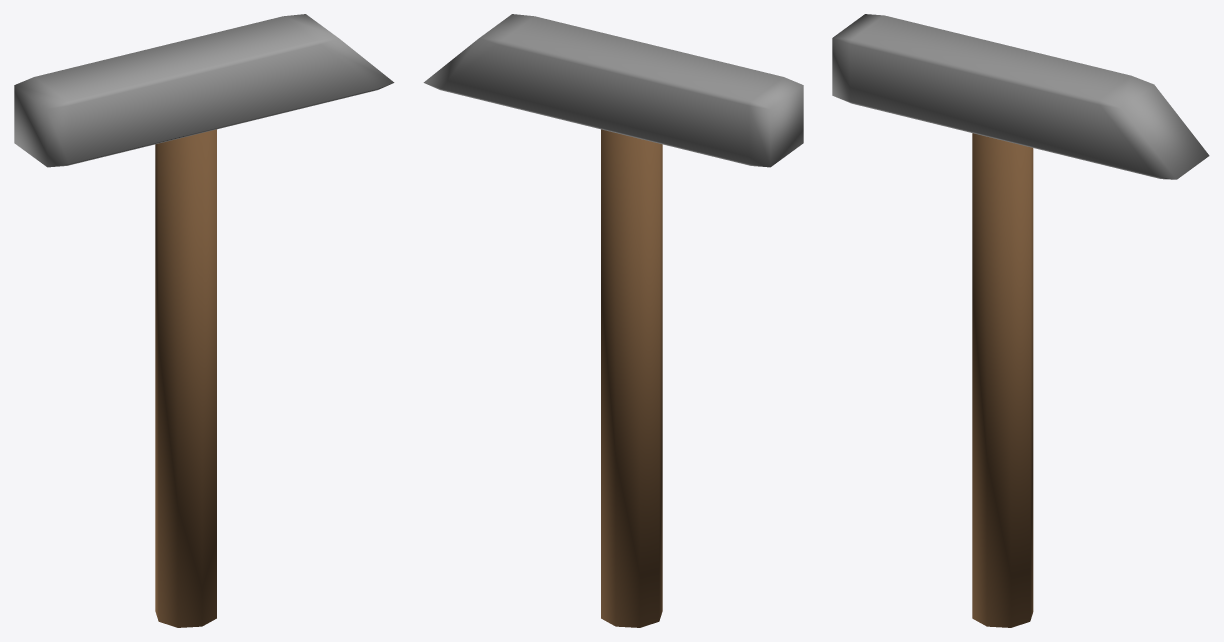
The model's file is Hoe.glb.
3 renders of one model, left to right at view 1: azimuth 30°, elevation 25°; view 2: azimuth 150°, elevation 25°; view 3: azimuth 330°, elevation 25°, orthographic.
Parts seen in each view (by area): view 1: hoe; view 2: hoe; view 3: hoe.
Boxes of the visible parts, x1,y1,x2,y2 form: hoe: (14,14,394,627); hoe: (423,14,803,627); hoe: (832,14,1209,627).
Bounding box in the file's own units: 0.9813 × 1.51 × 0.18.
